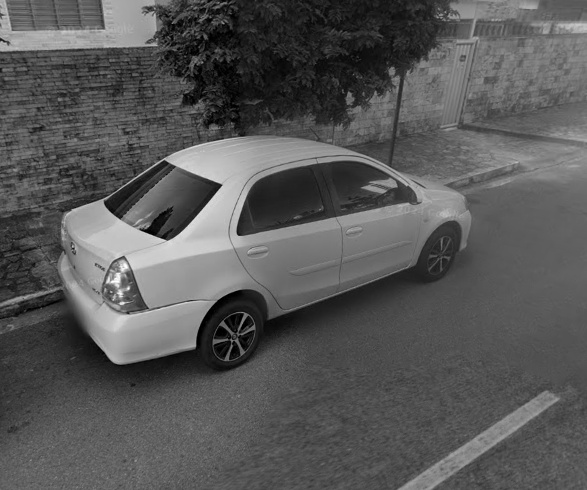car: (55, 123, 475, 371)
